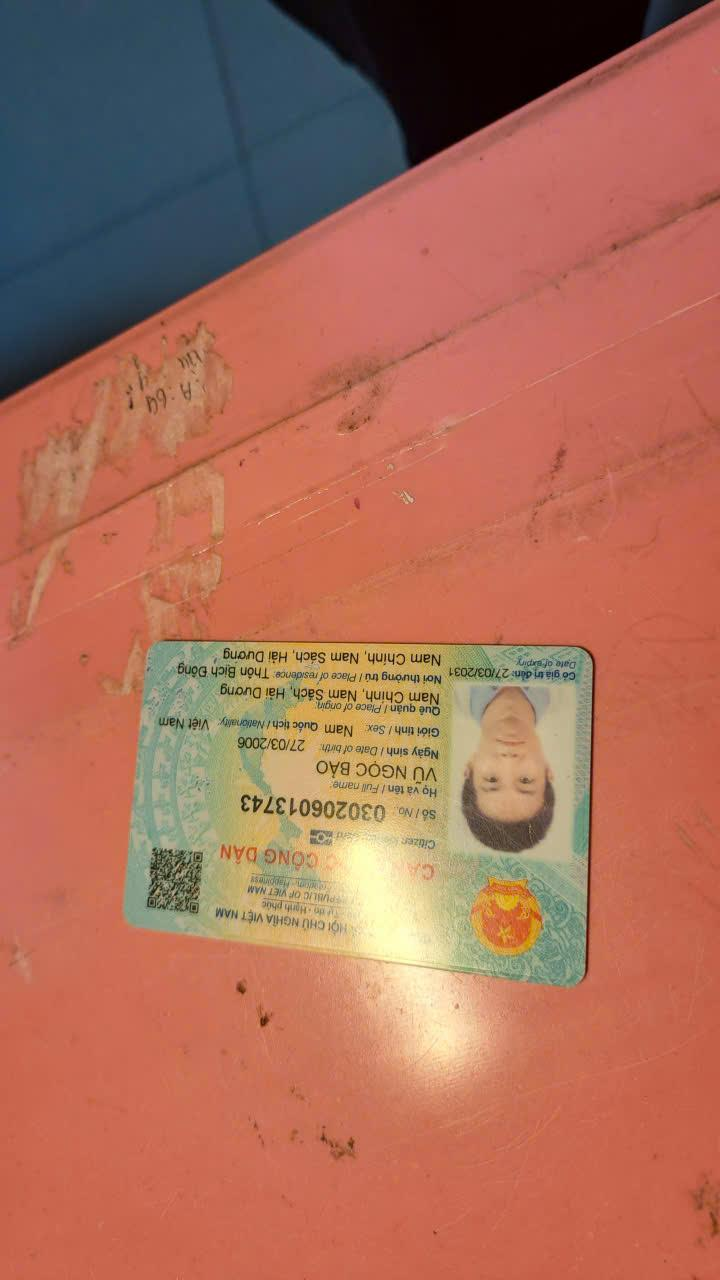cccd: (122, 633, 600, 1003)
